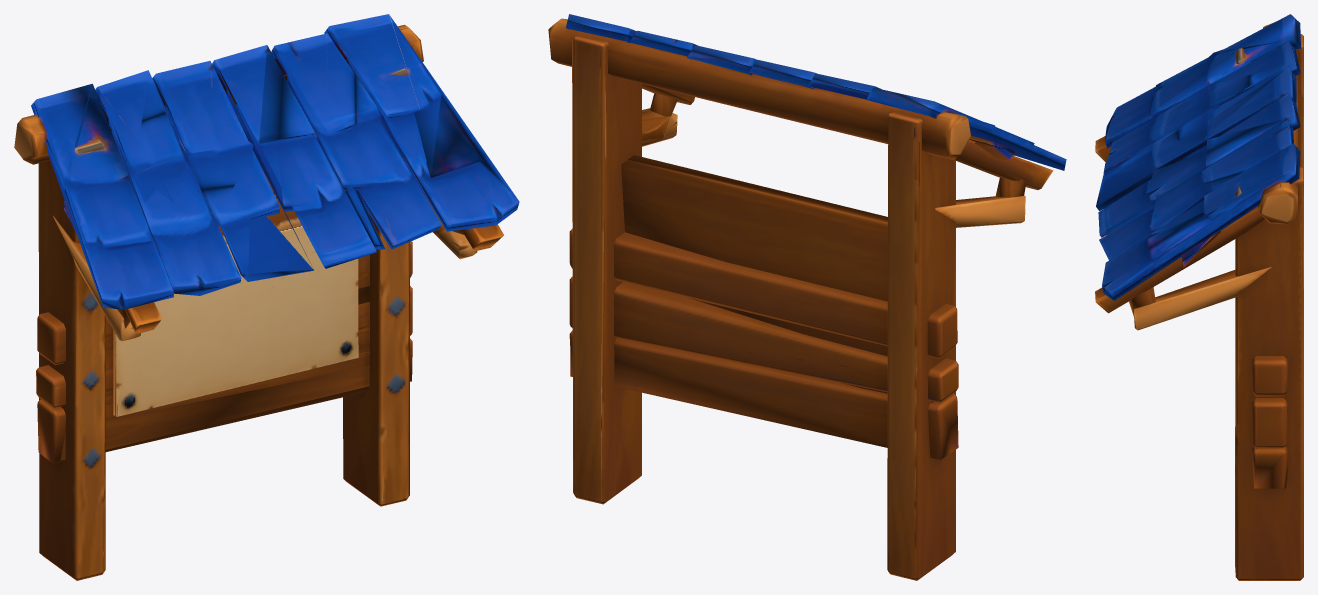
Rendered from leaderboard.glb.
3 views of the same model, side by side, from view 1: azimuth 30°, elevation 25°; view 2: azimuth 150°, elevation 25°; view 3: azimuth 270°, elevation 25° (orthographic). The views are drawn at different scales.
Visible parts, largest first — view 1: geometry_0; view 2: geometry_0; view 3: geometry_0.
Boxes of the visible parts, x1,y1,x2,y2 form: geometry_0: (14,14,519,580); geometry_0: (548,14,1066,580); geometry_0: (1095,14,1303,580).
Size of the model in its own units: 0.8911 by 0.9517 by 0.4312.
Materials: 1 (1 with a texture image).
